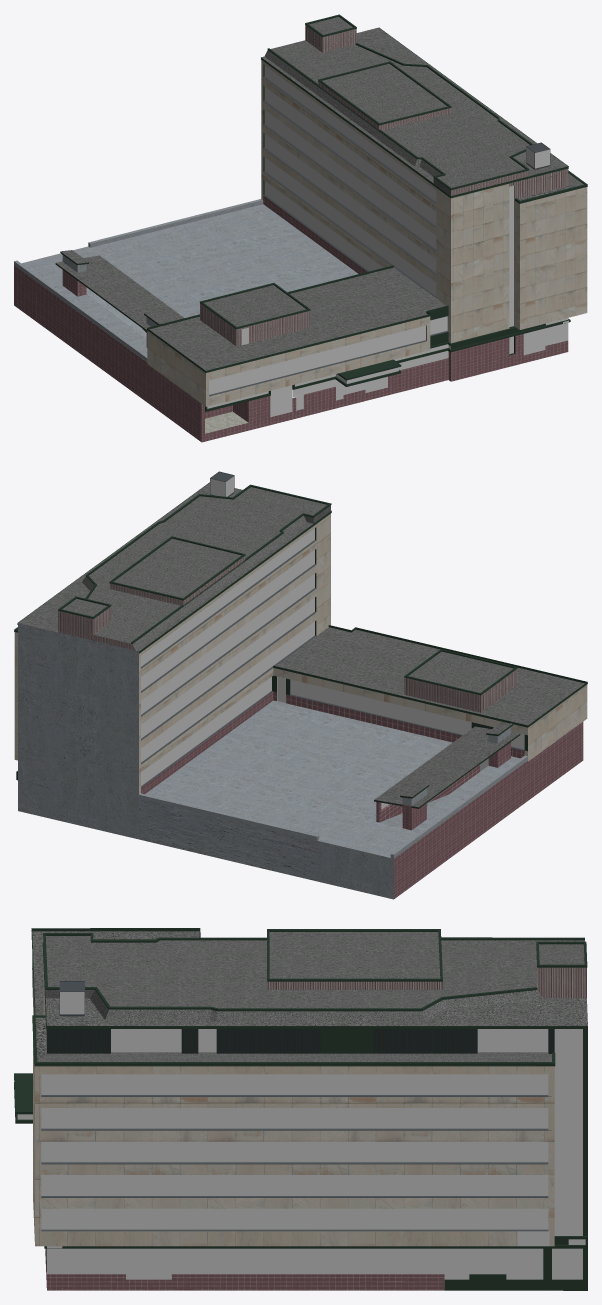
Rendered from uusikat_26.dae.
3 renders of one model, top to bottom at view 1: azimuth 30°, elevation 25°; view 2: azimuth 150°, elevation 25°; view 3: azimuth 270°, elevation 25°, orthographic. The views are drawn at different scales.
Parts seen in each view (by area): view 1: Object_1; view 2: Object_1; view 3: Object_1.
Boxes of the visible parts, x1=… form: Object_1: x1=14, y1=14, x2=587, y2=442; Object_1: x1=14, y1=471, x2=587, y2=899; Object_1: x1=14, y1=928, x2=587, y2=1290.
Bounding box in the file's own units: 51.09 × 46.43 × 26.56.
